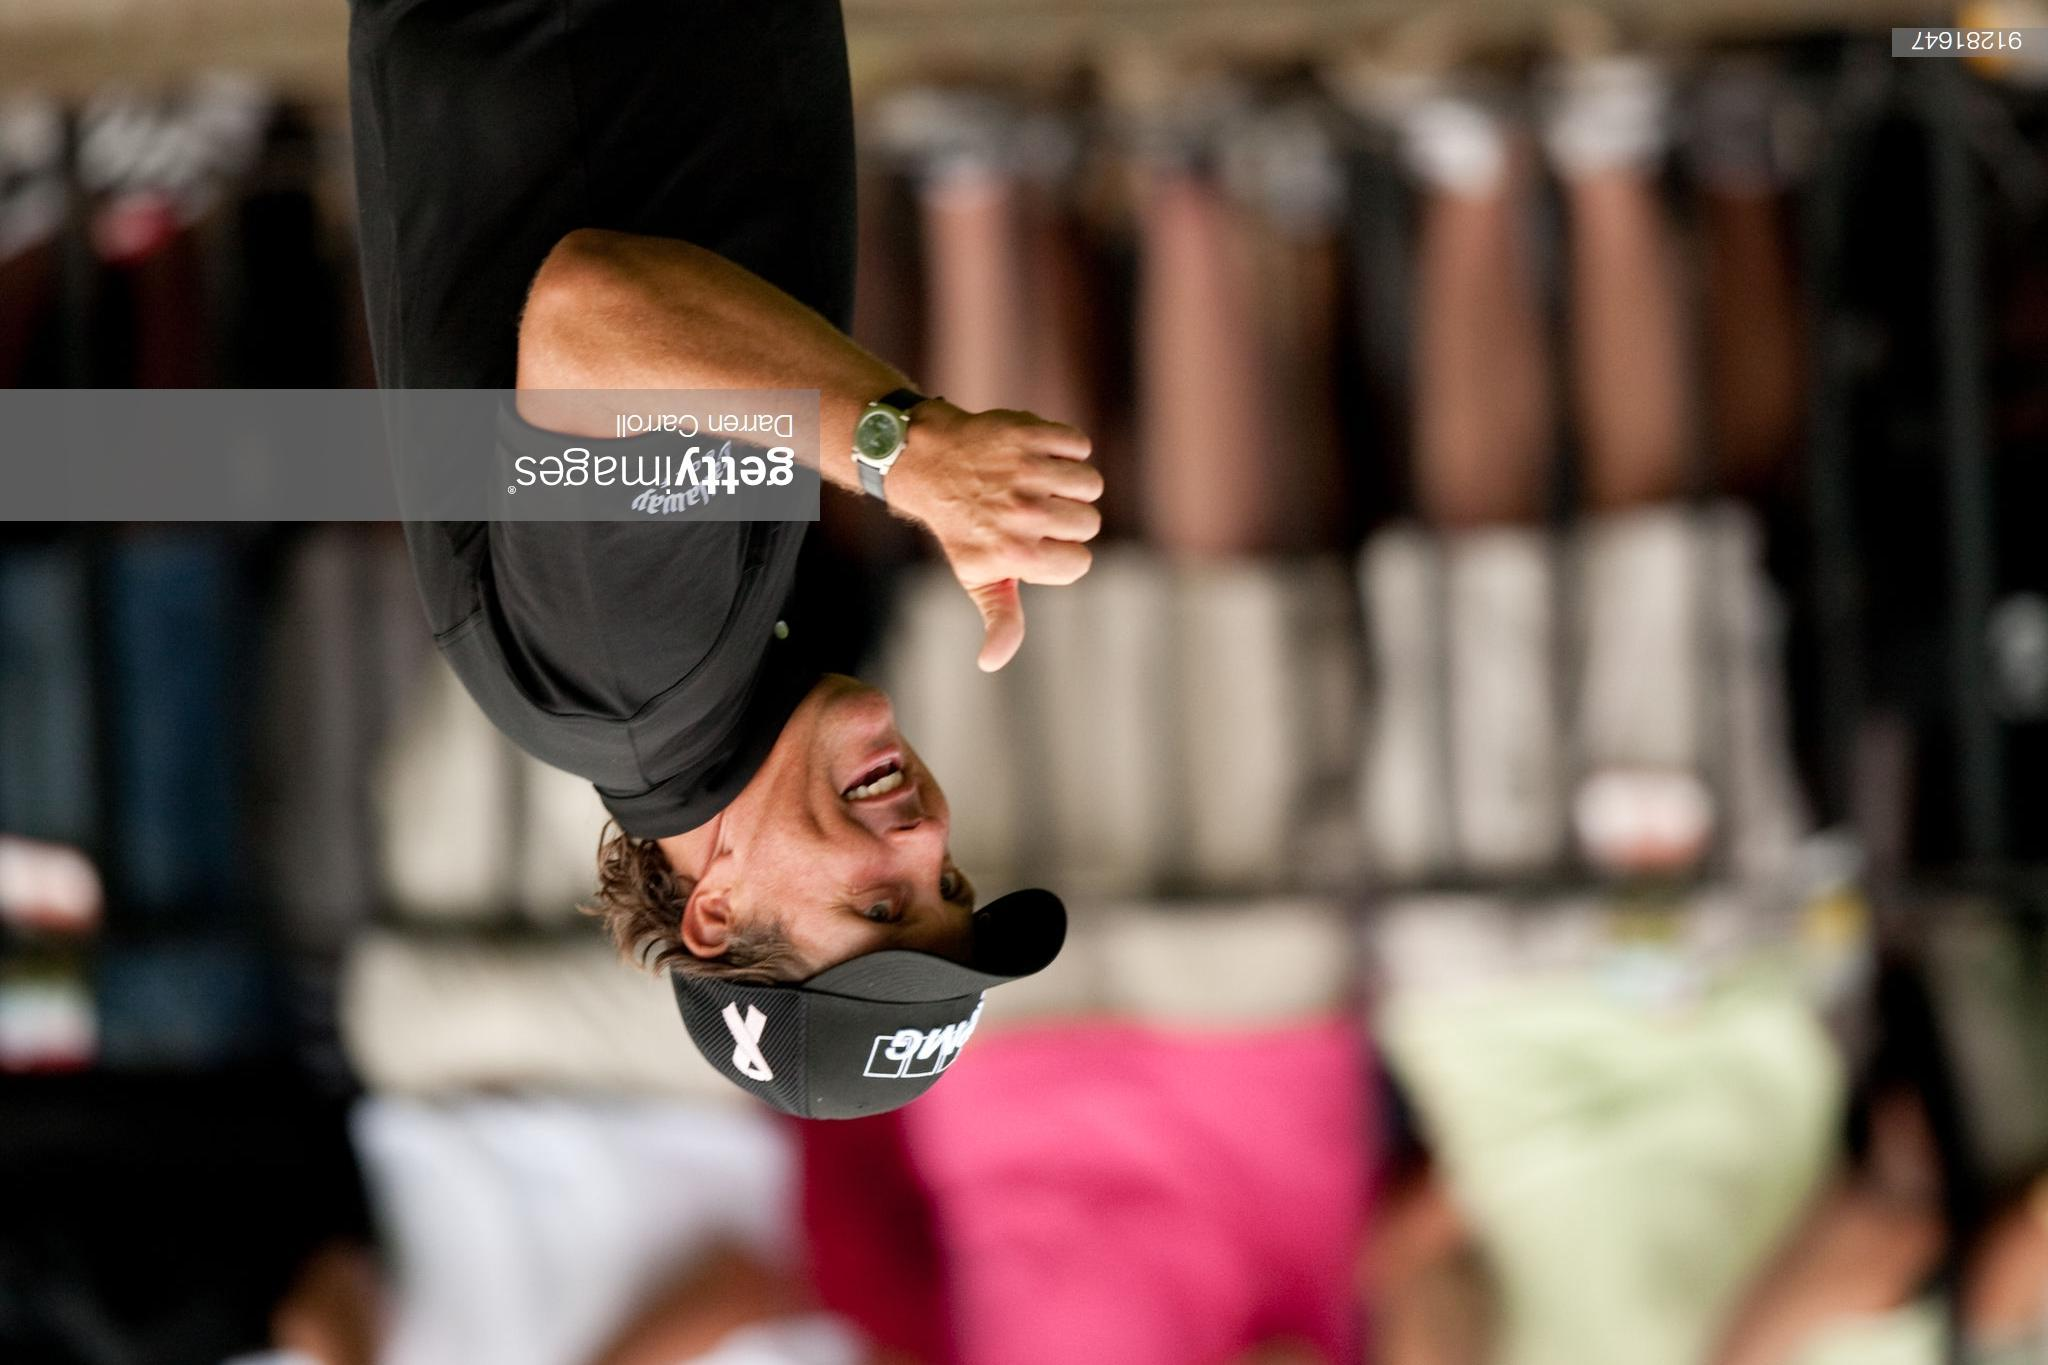thumbsdown: (968, 411, 1105, 673)
